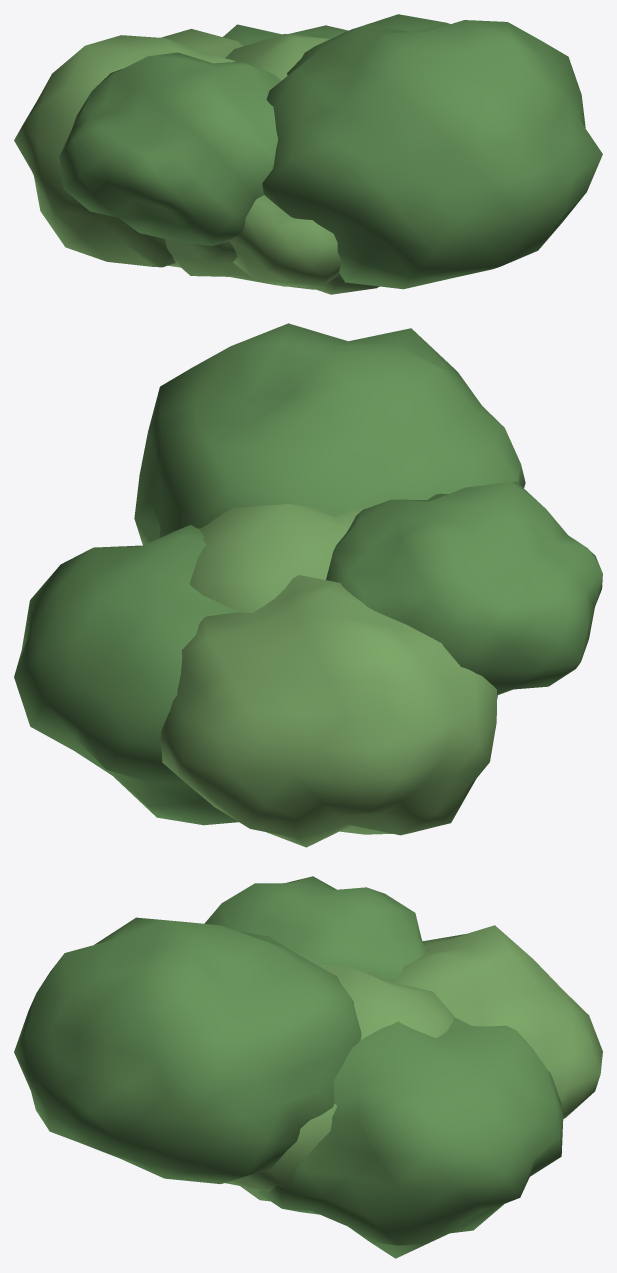
The model's file is bush.glb.
3 views of the same model, one above another, from view 1: azimuth 30°, elevation 25°; view 2: azimuth 150°, elevation 25°; view 3: azimuth 270°, elevation 25° (orthographic). The views are drawn at different scales.
Parts seen in each view (by area): view 1: Icosphere.005, Icosphere.003, Icosphere.002, Icosphere.004, Icosphere, Icosphere.001; view 2: Icosphere.002, Icosphere.005, Icosphere.003, Icosphere.001, Icosphere; view 3: Icosphere.005, Icosphere.001, Icosphere.002, Icosphere.003, Icosphere.
Part boxes in pixels (left/top/right/bottom): Icosphere.005: left=262, top=14, right=602, bottom=289; Icosphere.003: left=59, top=52, right=280, bottom=245; Icosphere.002: left=14, top=29, right=242, bottom=267; Icosphere.004: left=229, top=195, right=341, bottom=286; Icosphere: left=164, top=34, right=379, bottom=294; Icosphere.001: left=223, top=24, right=348, bottom=46; Icosphere.002: left=160, top=575, right=497, bottom=847; Icosphere.005: left=134, top=323, right=525, bottom=545; Icosphere.003: left=326, top=481, right=602, bottom=695; Icosphere.001: left=14, top=525, right=239, bottom=825; Icosphere: left=189, top=504, right=362, bottom=612; Icosphere.005: left=14, top=917, right=361, bottom=1184; Icosphere.001: left=258, top=1017, right=563, bottom=1258; Icosphere.002: left=395, top=925, right=602, bottom=1118; Icosphere.003: left=204, top=876, right=427, bottom=982; Icosphere: left=225, top=965, right=454, bottom=1201.
Bounding box in the file's own units: 1.21 × 0.7881 × 1.41.
